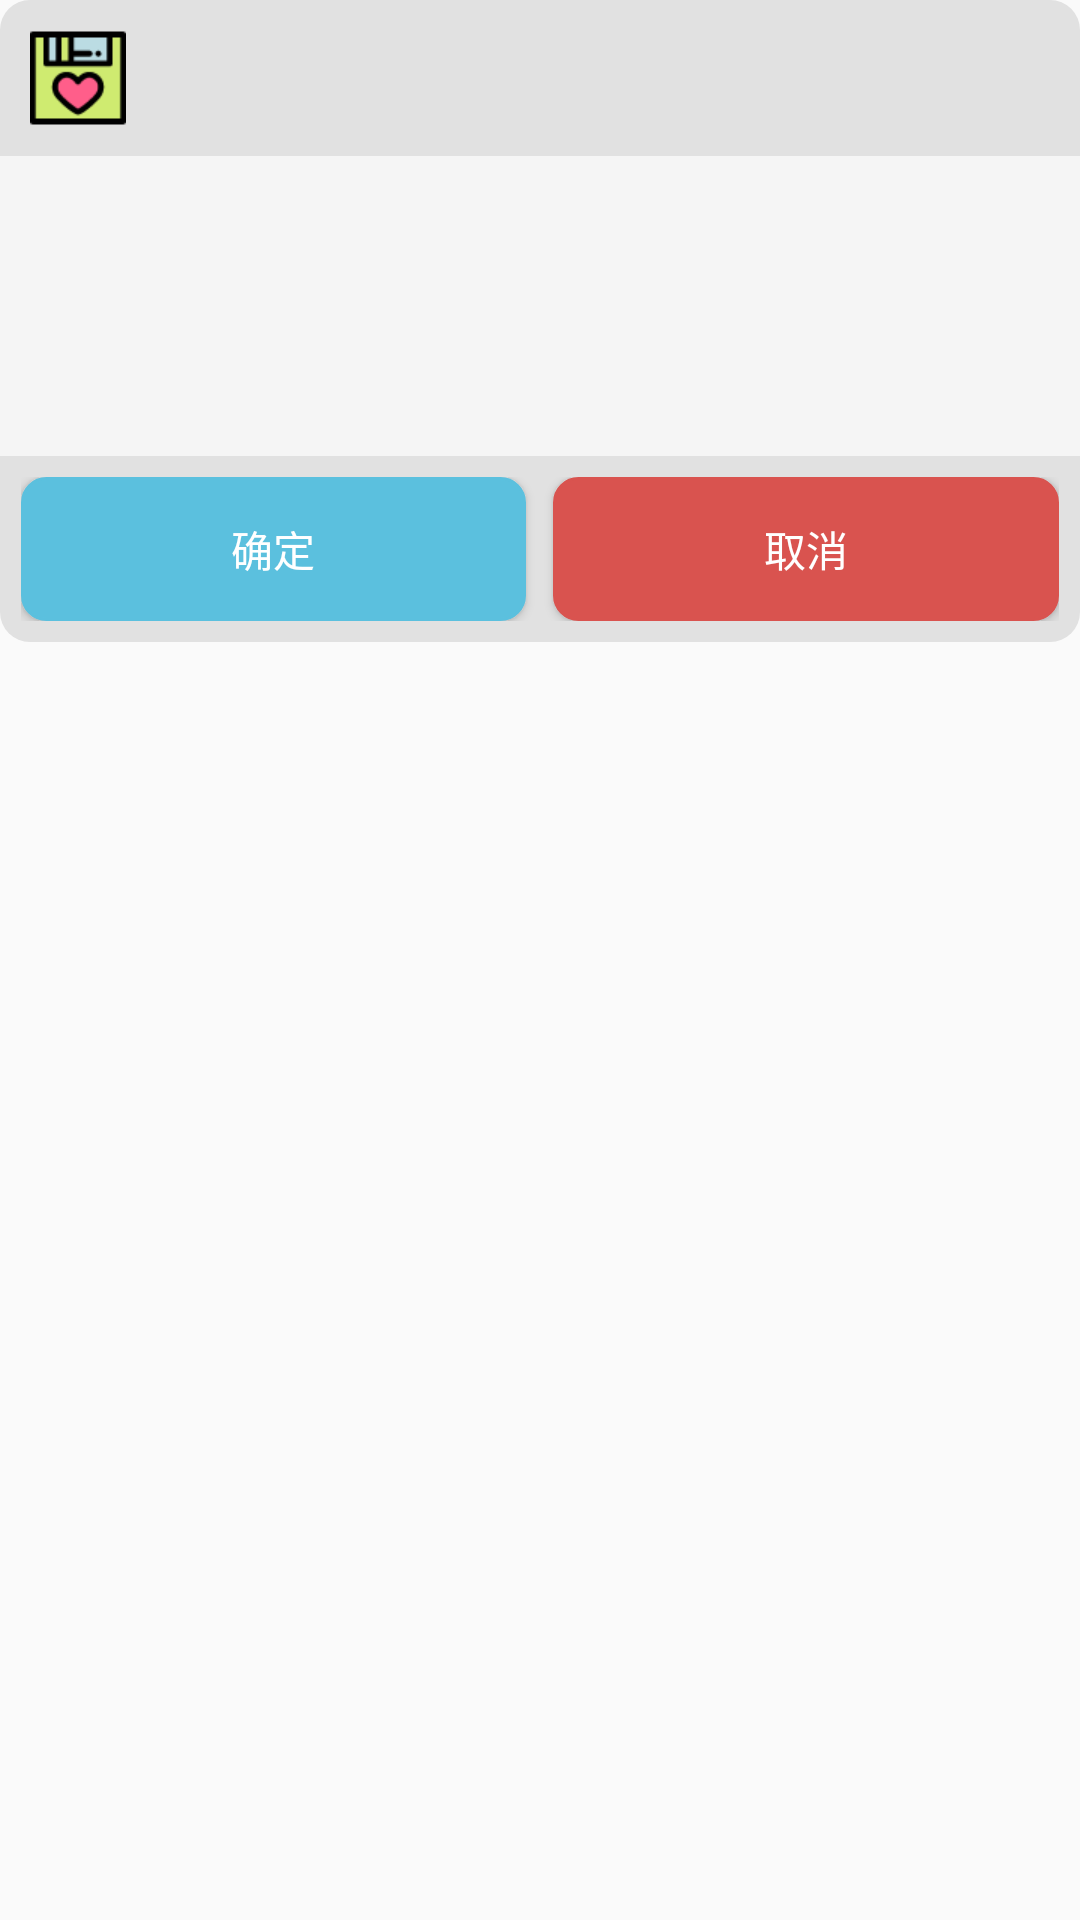

Icon bounding boxes for this 1080px×1920px phone screenshot, format (x1, y1, x2, y2):
save: (30, 31, 126, 125)
